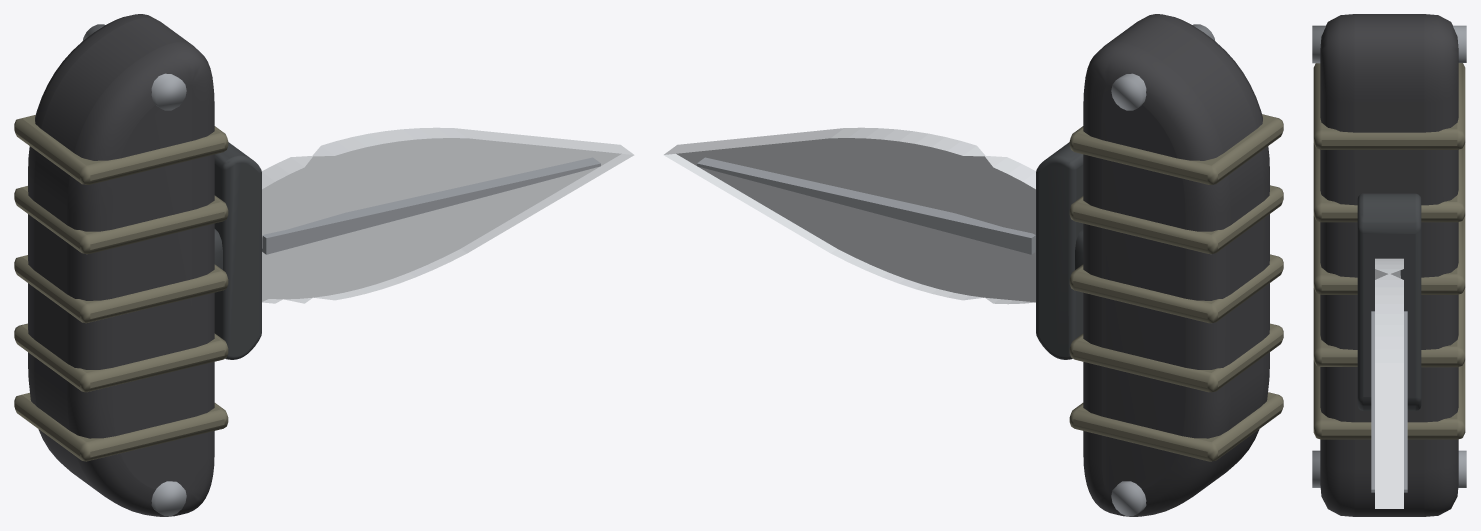
File: knife_push.glb
3 views of the same model, side by side, from view 1: azimuth 30°, elevation 25°; view 2: azimuth 150°, elevation 25°; view 3: azimuth 270°, elevation 25° (orthographic). The views are drawn at different scales.
Parts seen in each view (by area): view 1: lod_detail_polymer, lod_skin_blade, lod_detail_cord, lod_metal_dark, lod_metal_steel; view 2: lod_detail_polymer, lod_skin_blade, lod_detail_cord, lod_metal_dark, lod_metal_steel; view 3: lod_detail_polymer, lod_detail_cord, lod_metal_dark, lod_skin_blade, lod_metal_steel.
Part boxes in pixels (x1,y1,x2,y2): lod_detail_polymer: (28,14,214,516); lod_skin_blade: (262,127,634,303); lod_detail_cord: (14,115,228,461); lod_metal_dark: (214,142,261,359); lod_metal_steel: (83,24,600,516); lod_detail_polymer: (1083,14,1269,516); lod_skin_blade: (663,127,1035,304); lod_detail_cord: (1069,114,1283,461); lod_metal_dark: (1036,142,1083,359); lod_metal_steel: (697,24,1214,516); lod_detail_polymer: (1320,14,1458,516); lod_detail_cord: (1313,63,1465,439); lod_metal_dark: (1357,193,1421,410); lod_skin_blade: (1375,258,1403,508); lod_metal_steel: (1312,25,1466,492).
Size of the model in its own units: 0.1318 by 0.1016 by 0.029.
